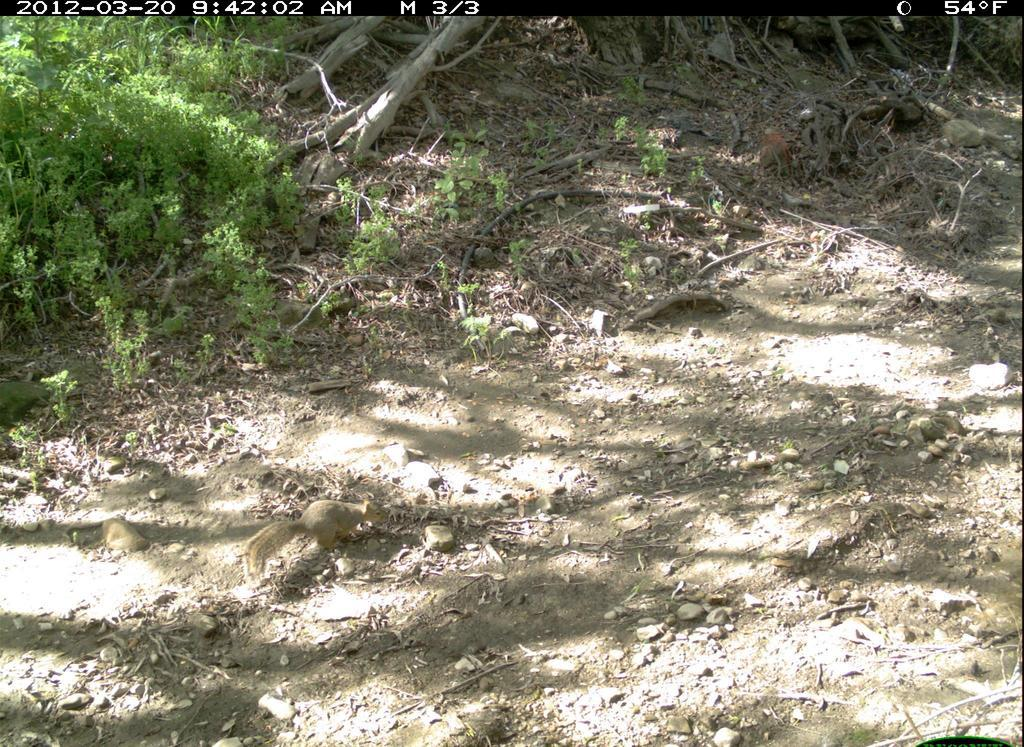squirrel: (230, 491, 402, 600)
